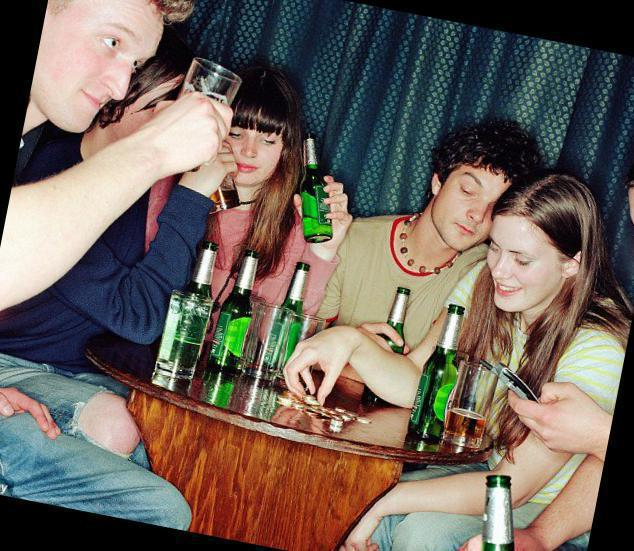Drunk: (49, 4, 152, 129), (487, 217, 553, 316), (438, 164, 499, 244), (228, 123, 282, 181)
